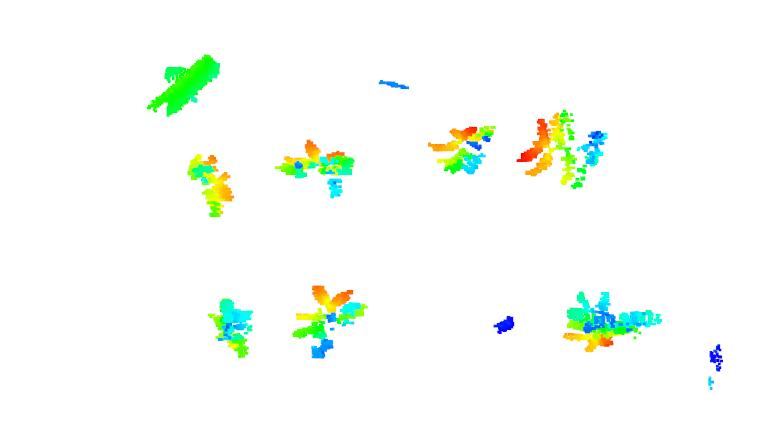chickpea: (520, 109, 610, 189), (561, 287, 665, 351), (288, 284, 365, 360), (271, 138, 357, 196), (187, 149, 240, 219), (429, 124, 498, 174), (205, 299, 256, 359)
